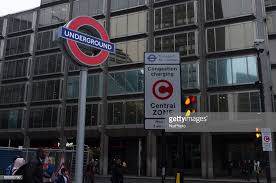London Underground: (60, 16, 114, 65)
